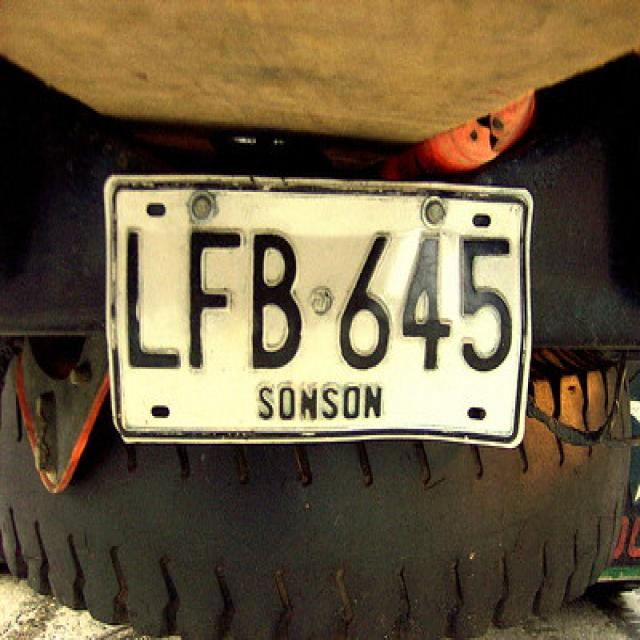placas: (114, 216, 518, 376)
